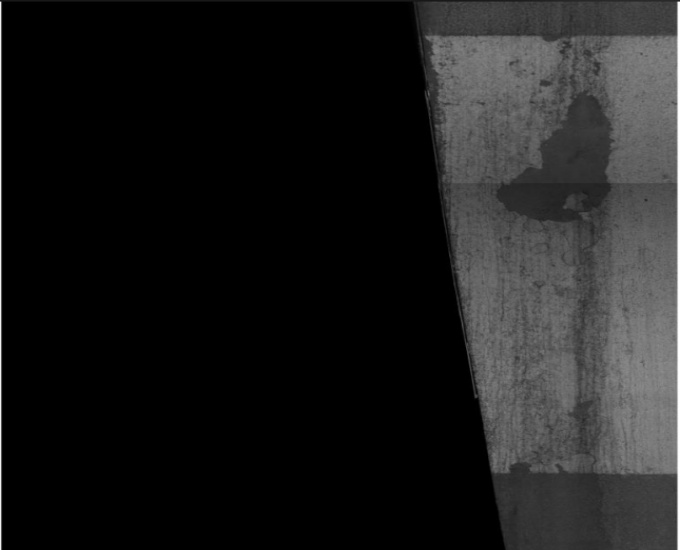剥落: (494, 99, 675, 254)
